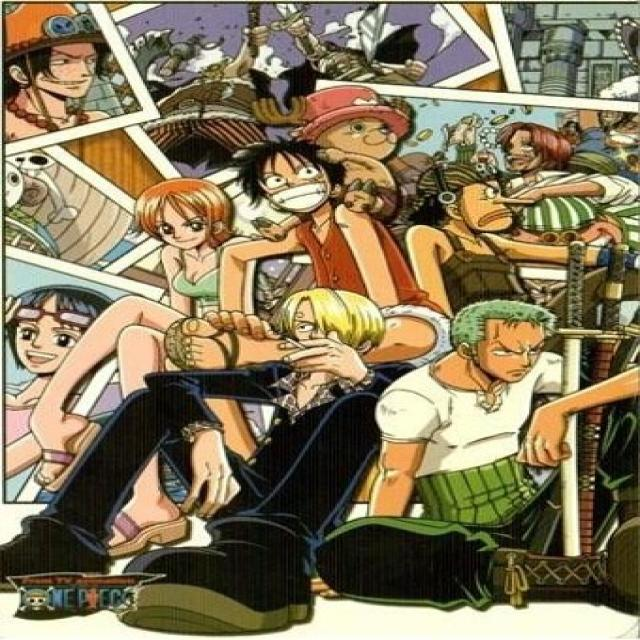Chyopa: (253, 82, 428, 150)
Luffy: (221, 134, 366, 229)
Nami: (134, 165, 234, 260)
Sangdi: (265, 283, 392, 363)
Zoro: (434, 295, 571, 401)
